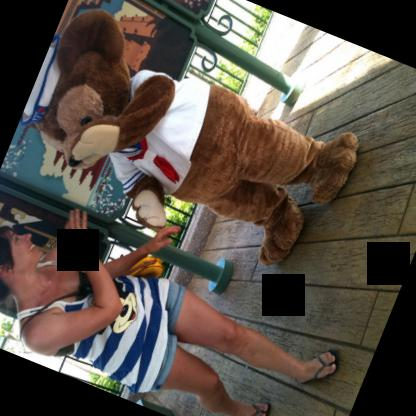handbag: (113, 255, 163, 278)
